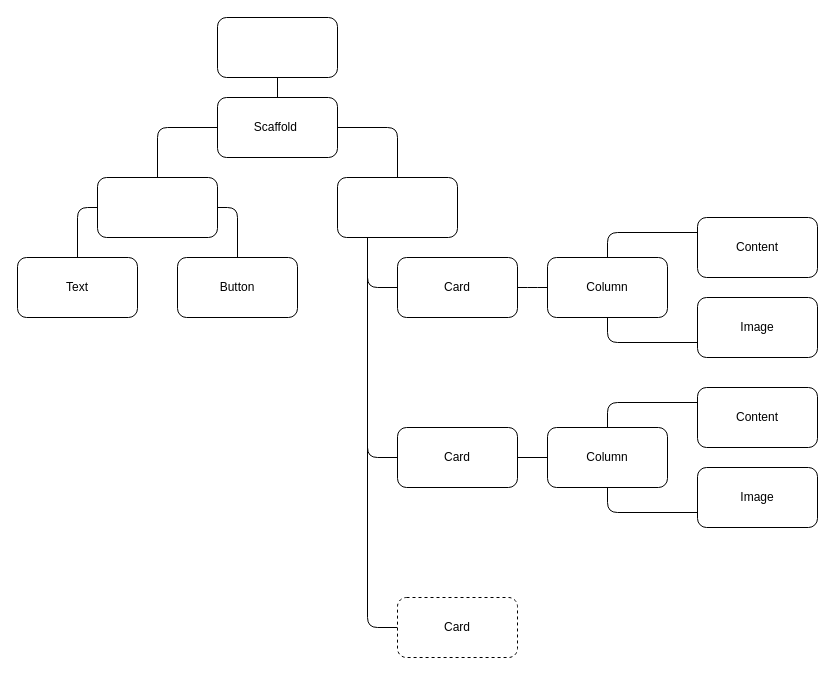
Image size: 835x675. Some labels were removed from this diagram. Here are the shapes that lost their labels. From the top down, the centre of each, then its label:
At (x=277, y=47): "WisdomFeed".
At (x=157, y=207): "AppBar".
At (x=397, y=207): "ListView".
